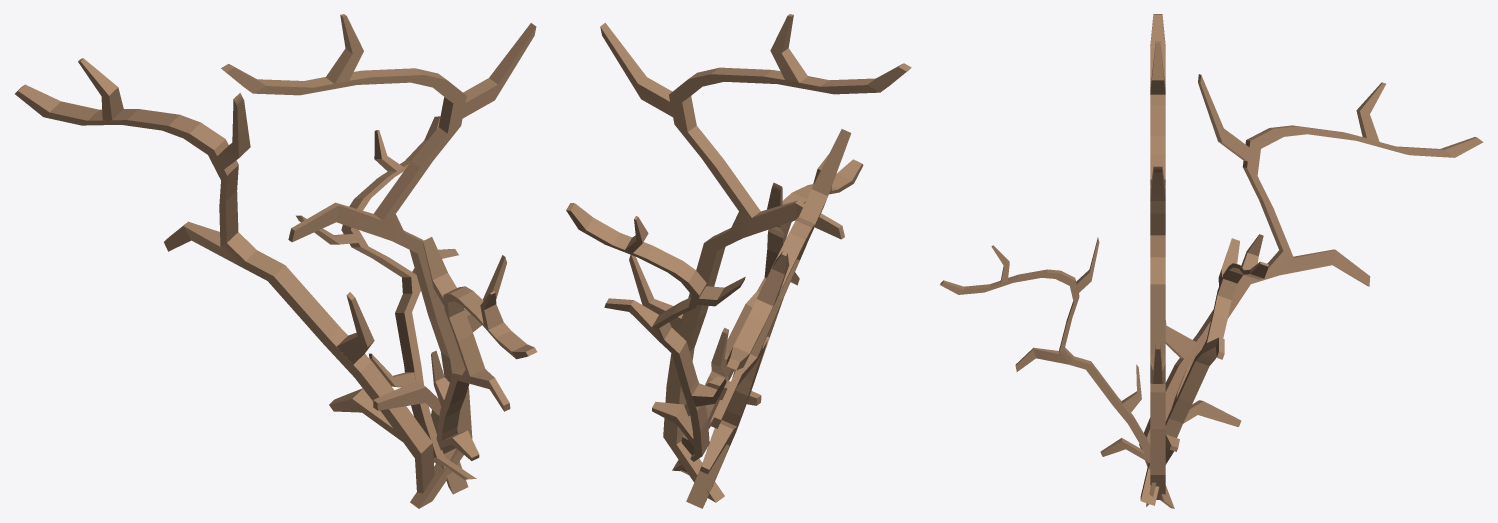
The model's file is Branch.fbx.
3 renders of one model, left to right at view 1: azimuth 30°, elevation 25°; view 2: azimuth 150°, elevation 25°; view 3: azimuth 270°, elevation 25°, orthographic. The views are drawn at different scales.
Visible parts, largest first — view 1: polySurface21; view 2: polySurface21; view 3: polySurface21.
Part boxes in pixels (<box>): polySurface21: <box>15,14,537,508</box>; polySurface21: <box>566,14,911,508</box>; polySurface21: <box>940,14,1483,508</box>.
Size of the model in its own units: 45.84 by 68.82 by 78.3.
